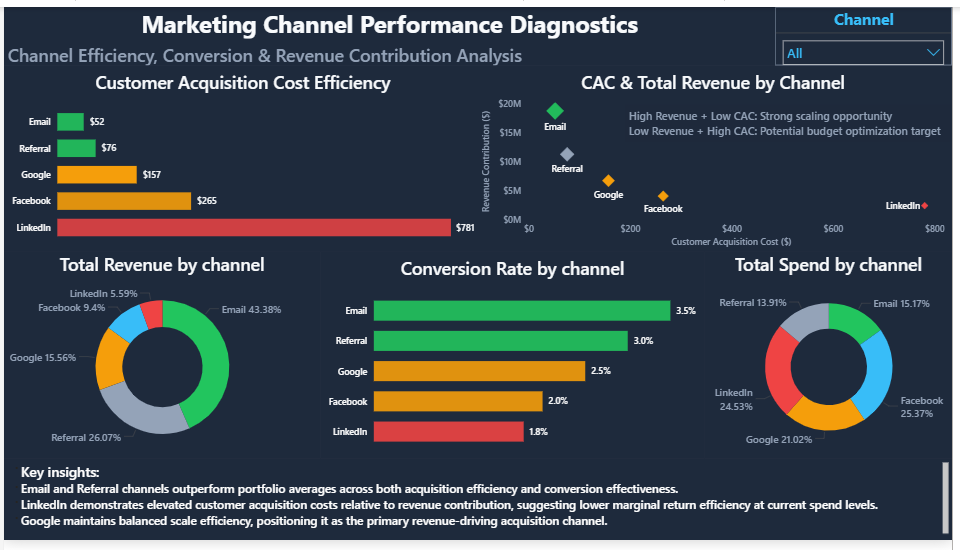

This screenshot's page, from the dashboard's own definition file:
{"tool":"powerbi","page":{"name":"Page 2","canvas":[1280,720],"ordinal":1},"visuals":[{"type":"clusteredBarChart","title":"Customer Acquisition Cost Efficiency ","fields":{"Category":["marketing_performance.channel"],"Y":["Measure.CAC"]},"box":[0,79,640,251.1],"z":0},{"type":"clusteredBarChart","fields":{"Category":["marketing_performance.channel"],"Y":["Measure.Conversion Rate"]},"box":[427.3,330.1,518.5,279.5],"z":1000},{"type":"scatterChart","title":"CAC & Total Revenue by Channel","fields":{"Category":["marketing_performance.channel"],"X":["Measure.CAC"],"Y":["Measure.Total Revenue"],"Size":["Measure.Total Customers"]},"box":[640,79,640,251.1],"z":2000},{"type":"textbox","box":[838.5,131.6,441.5,50.6],"z":3000},{"type":"donutChart","fields":{"Y":["Measure.Total Revenue"],"Category":["marketing_performance.channel"]},"box":[0,330.1,427.3,279.5],"z":4000},{"type":"donutChart","fields":{"Y":["Measure.Total Spend"],"Series":["marketing_performance.channel"]},"box":[945,330,335,279],"z":5000},{"type":"textbox","box":[0,609.6,1280,111.4],"z":6000},{"type":"textbox","title":"Marketing Channel Performance Diagnostics","box":[0,0,1041,79],"z":7000},{"type":"slicer","title":"Channel","fields":{"Values":["marketing_performance.channel"]},"box":[1041,0,239,79],"z":8000}]}

Visuals, with their boxes in screenshot pixels (x1, y1, x2, y2), scaled from the page's 1280x720 canvas onto the 960x550 screenshot:
"Customer Acquisition Cost Efficiency " clusteredBarChart: <bbox>0, 60, 480, 252</bbox>
clusteredBarChart - marketing_performance.channel x Measure.Conversion Rate: <bbox>320, 252, 709, 466</bbox>
"CAC & Total Revenue by Channel" scatterChart: <bbox>480, 60, 959, 252</bbox>
textbox: <bbox>629, 101, 959, 139</bbox>
donutChart - Measure.Total Revenue x marketing_performance.channel: <bbox>0, 252, 320, 466</bbox>
donutChart - Measure.Total Spend x marketing_performance.channel: <bbox>709, 252, 959, 465</bbox>
textbox: <bbox>0, 466, 959, 549</bbox>
"Marketing Channel Performance Diagnostics" textbox: <bbox>0, 0, 781, 60</bbox>
"Channel" slicer: <bbox>781, 0, 959, 60</bbox>
